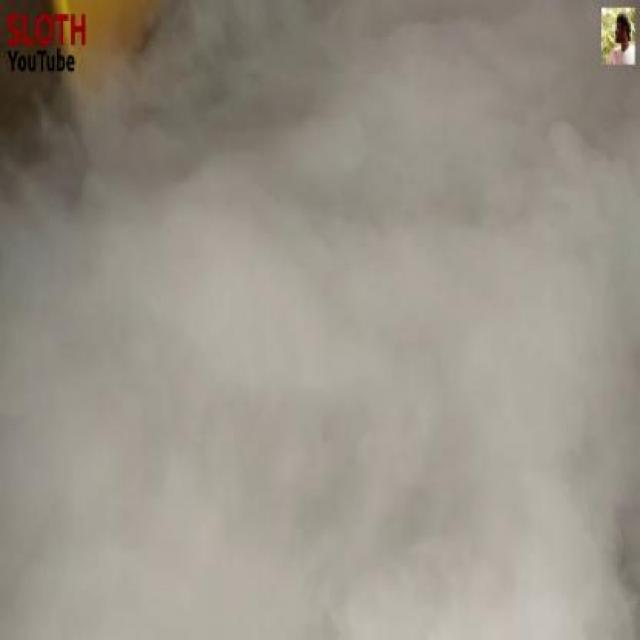smoke: (192, 159, 610, 576)
